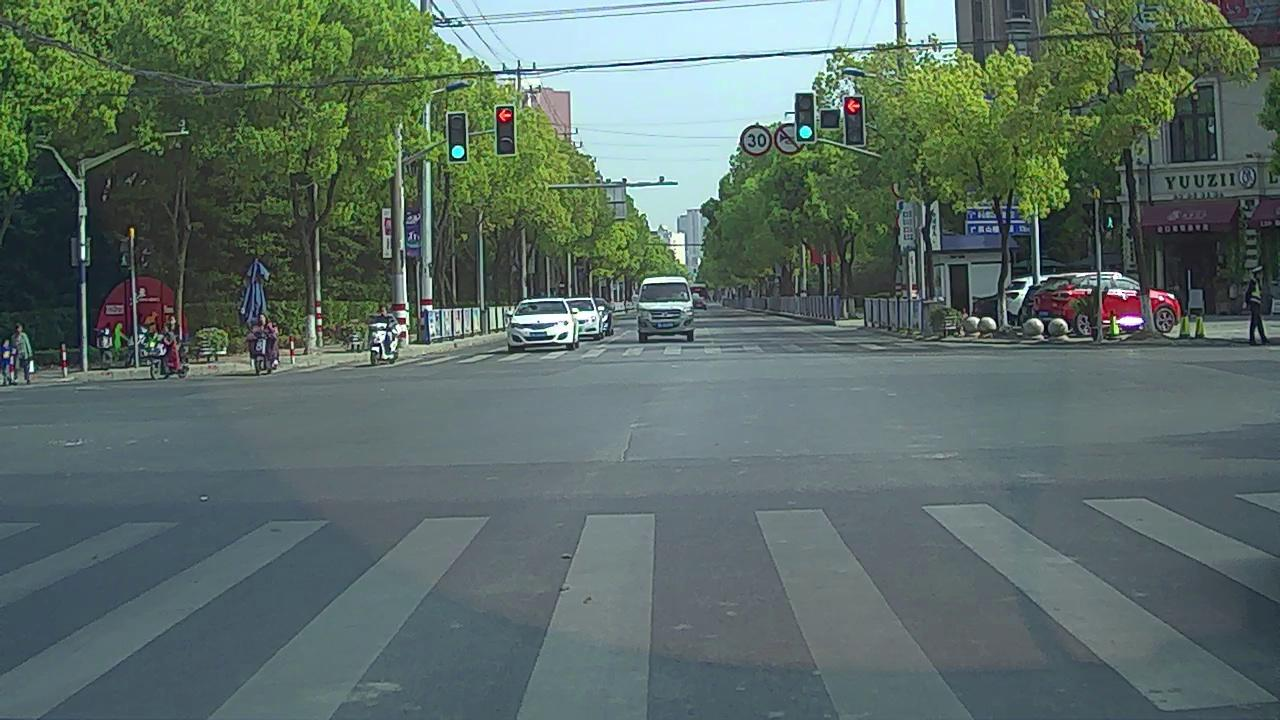traffic_light: (447, 113, 468, 163), (845, 97, 865, 148), (496, 106, 516, 155), (796, 93, 816, 142)
